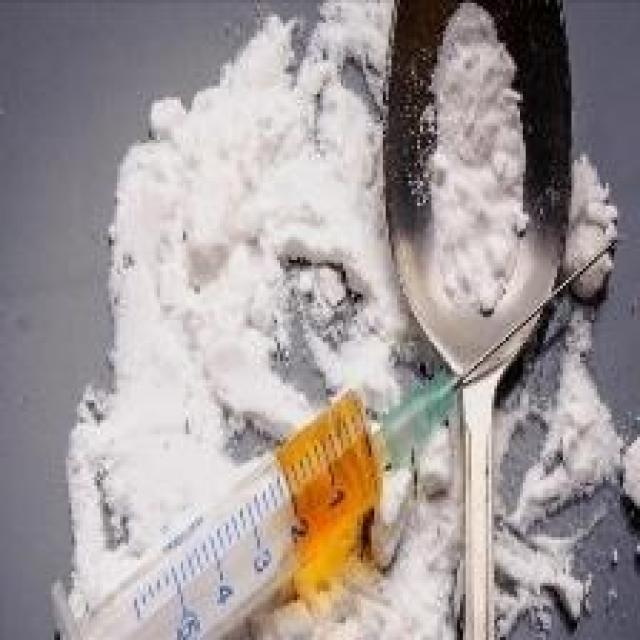syringe: (93, 258, 622, 640)
